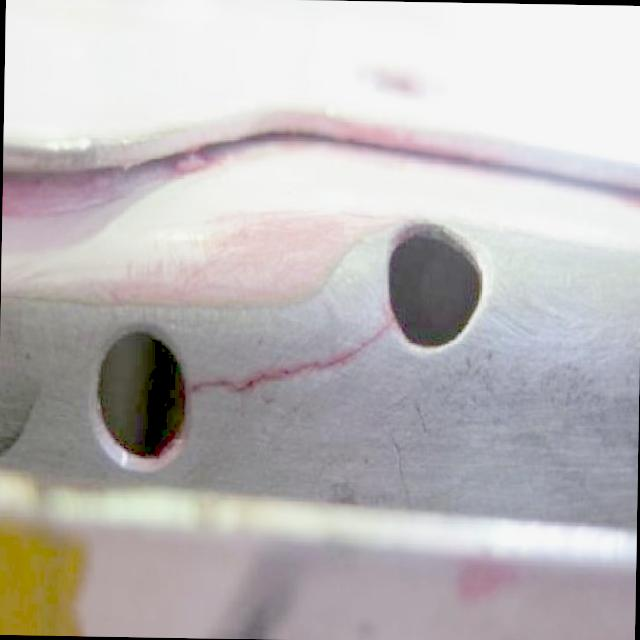crack: (322, 317, 394, 367), (238, 364, 318, 391), (191, 376, 233, 394)
